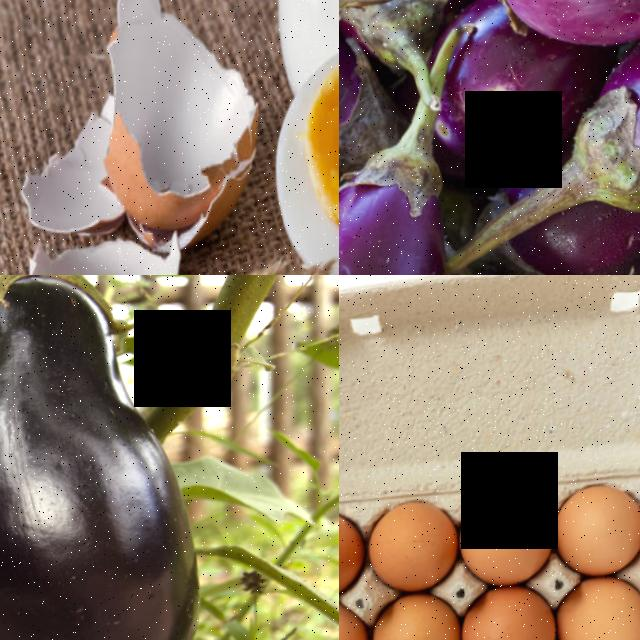egg_: (270, 12, 339, 270), (458, 491, 553, 590), (365, 498, 460, 595), (552, 484, 640, 581), (552, 577, 640, 640), (460, 584, 556, 640), (369, 591, 459, 640), (339, 506, 364, 600)
eggplant: (0, 275, 204, 640), (571, 18, 640, 225), (339, 157, 449, 275)
